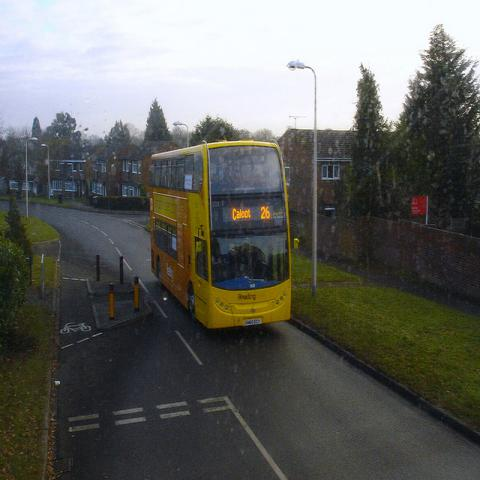bus: (150, 142, 292, 334)
